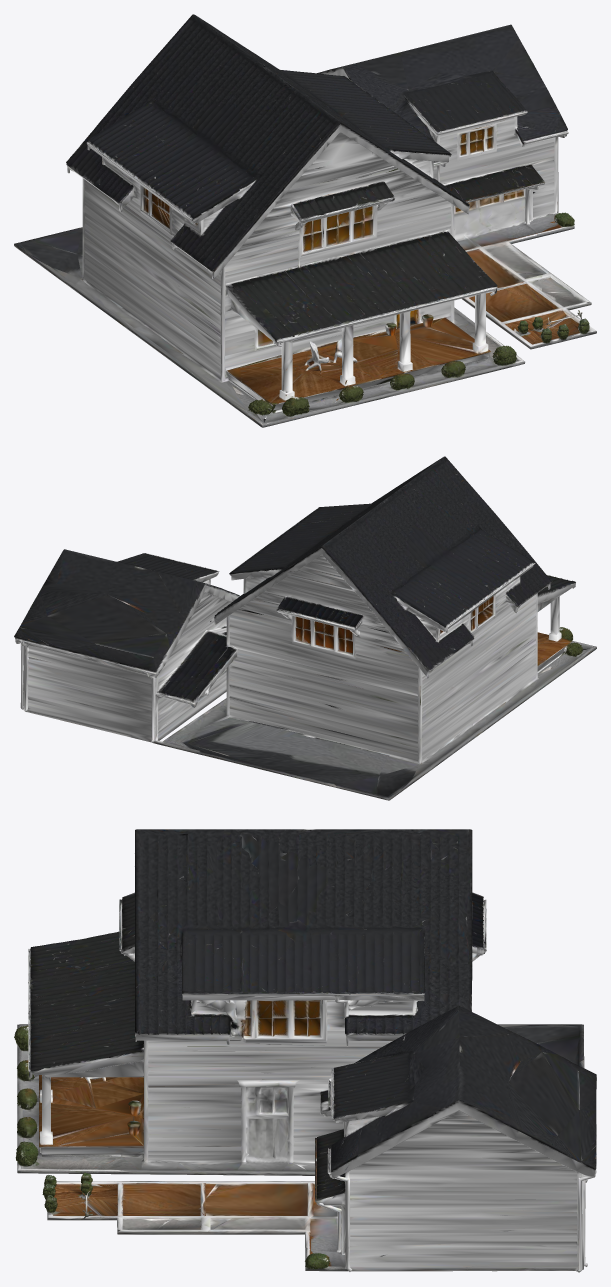
File: house_meshyfarm.glb
3 views of the same model, one above another, from view 1: azimuth 30°, elevation 25°; view 2: azimuth 150°, elevation 25°; view 3: azimuth 270°, elevation 25° (orthographic). The views are drawn at different scales.
Size of the model in its own units: 1.9 by 0.9708 by 1.9.
Materials: 1 (1 with a texture image).
